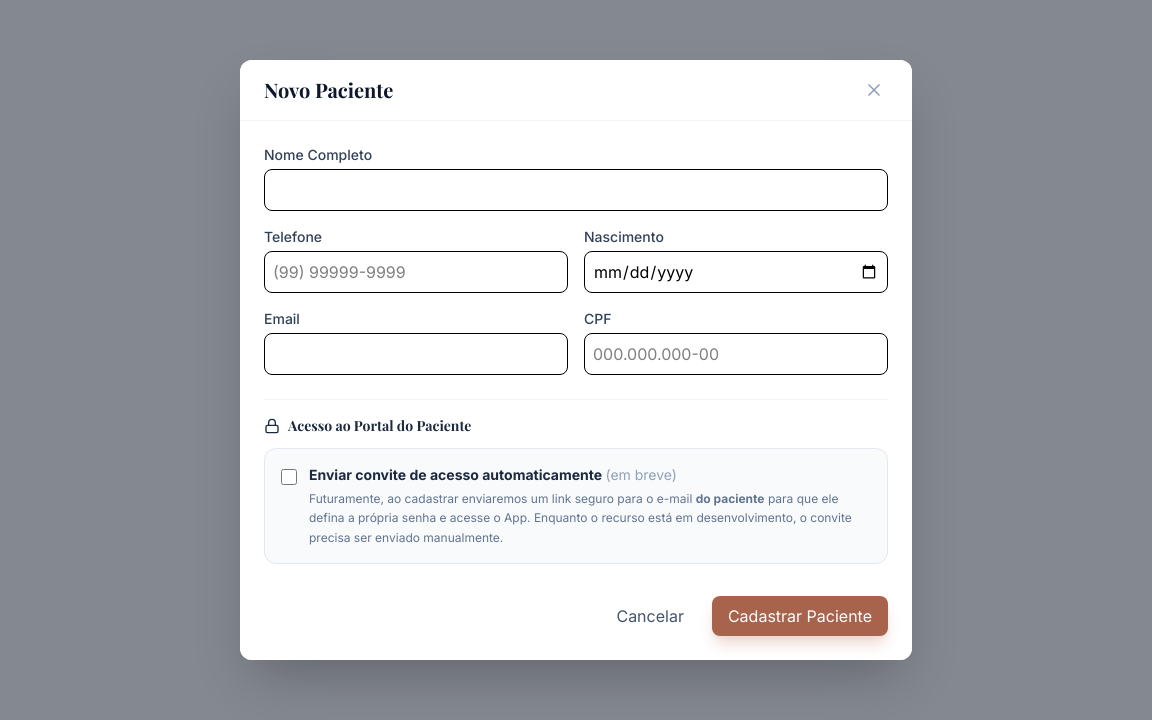
it: NewPatientModal — resultado da API › exibe a mensagem de erro quando addPatient retorna { success: false }
The width and height of the screenshot is (1152, 720).
Type "Maria Souza" into the field named "Nome Completo" at (576, 190), box [264, 169, 888, 211]
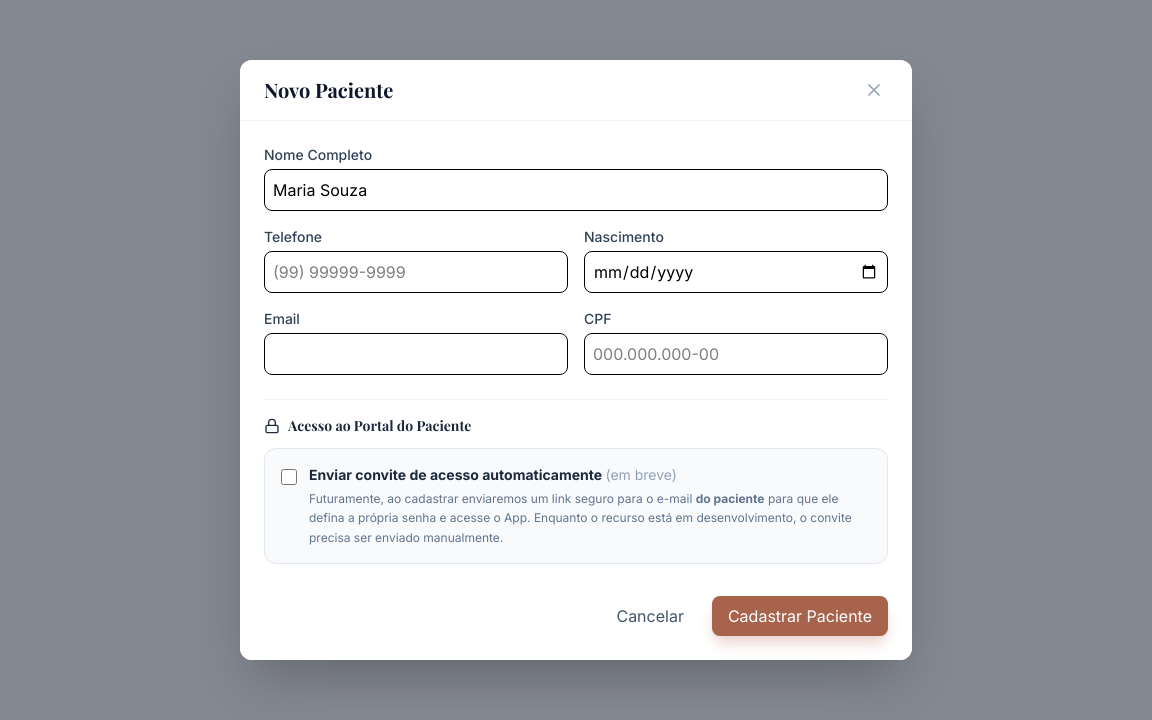
Type "11999998888" into the field with placeholder "(99) 99999-9999" at (416, 272), box [264, 251, 568, 293]
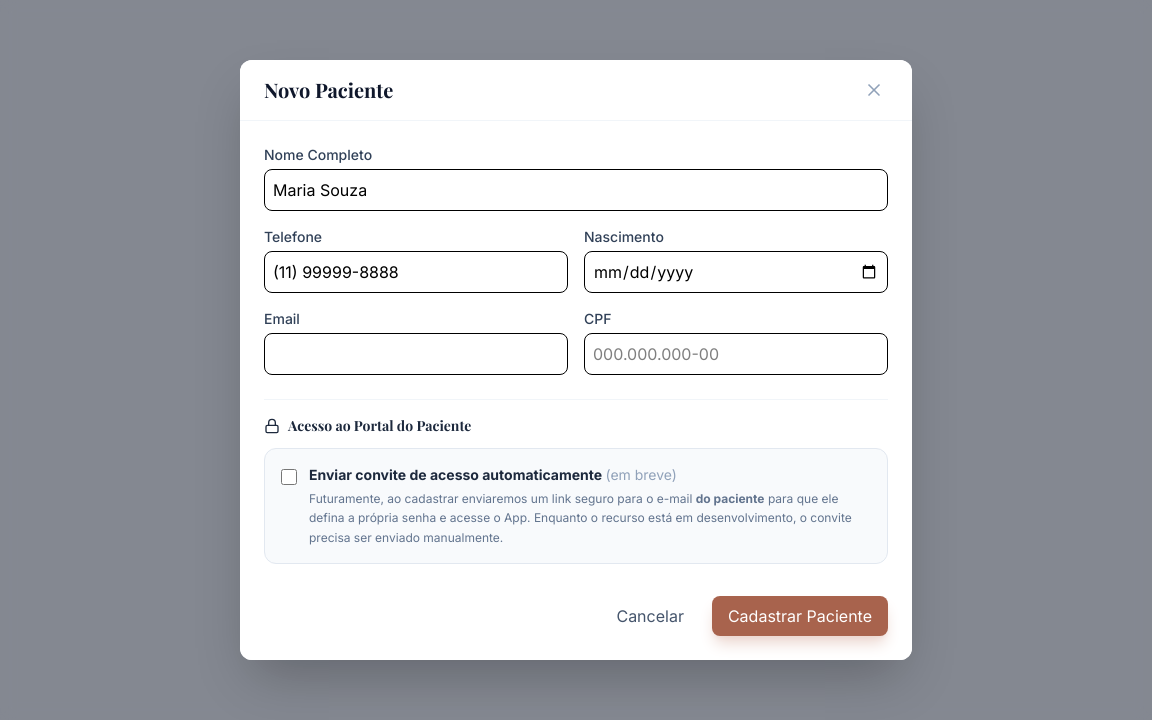
Type "maria@example.com" into the field below "Email" at (416, 354), box [264, 333, 568, 375]
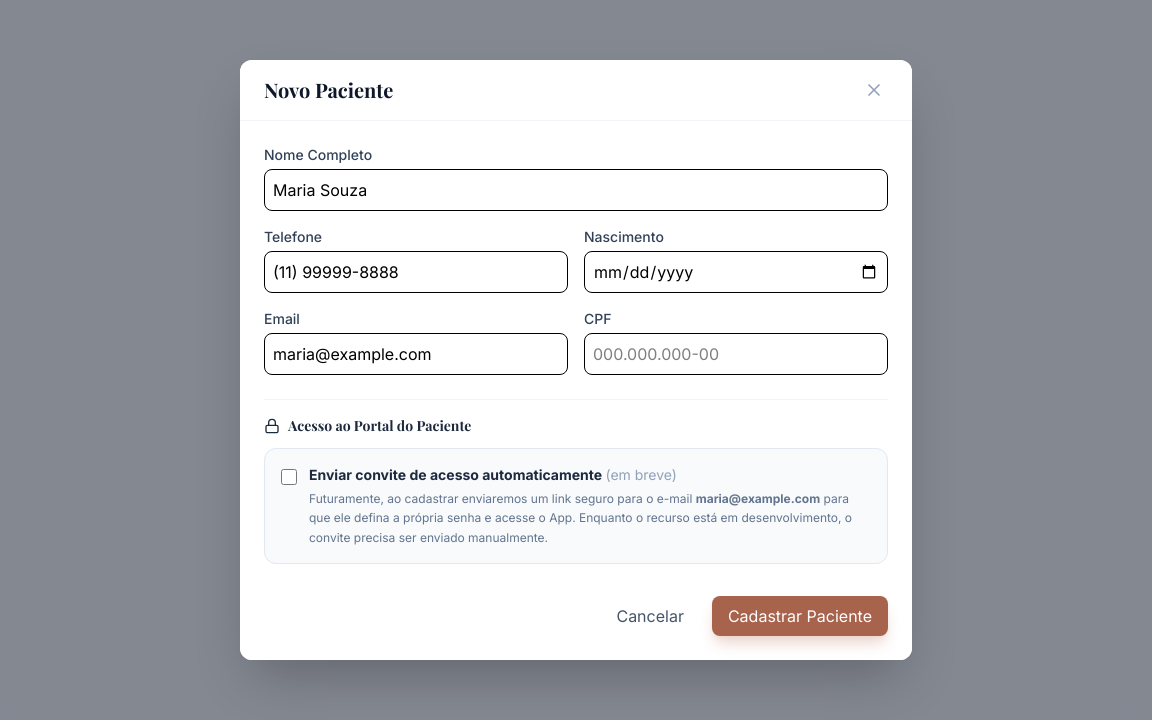
Type "1990-05-15" into the date field at (736, 272), box [584, 251, 888, 293]
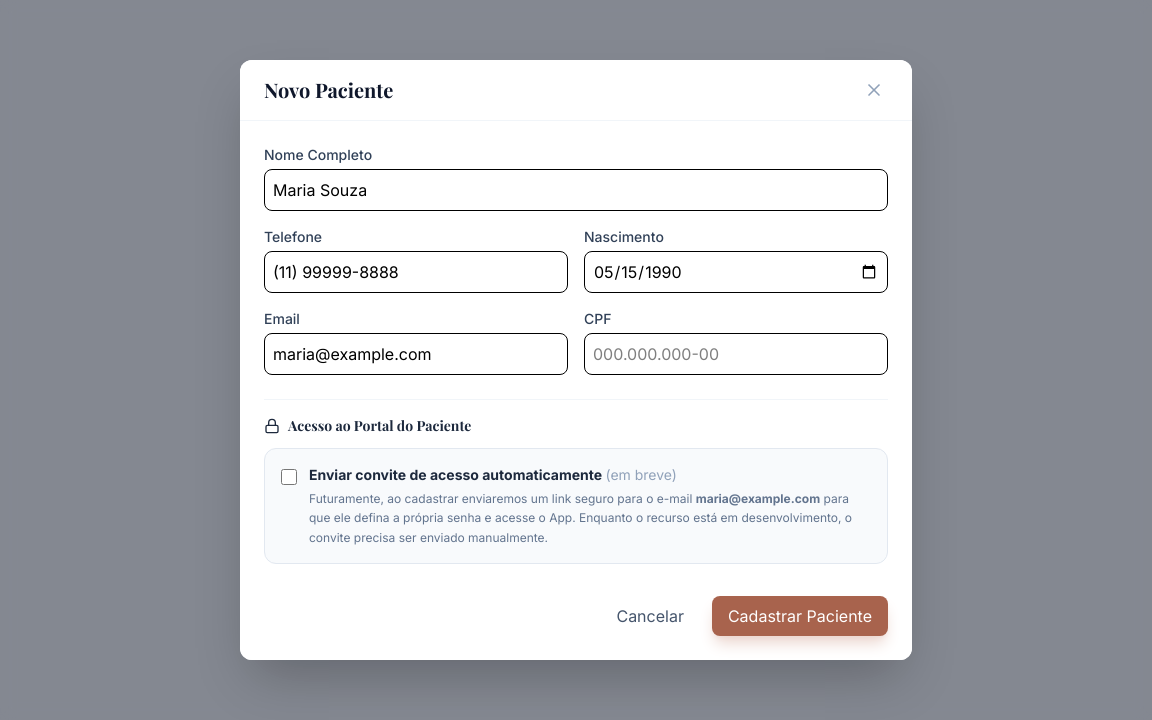
Submit the form, box [264, 145, 888, 636]
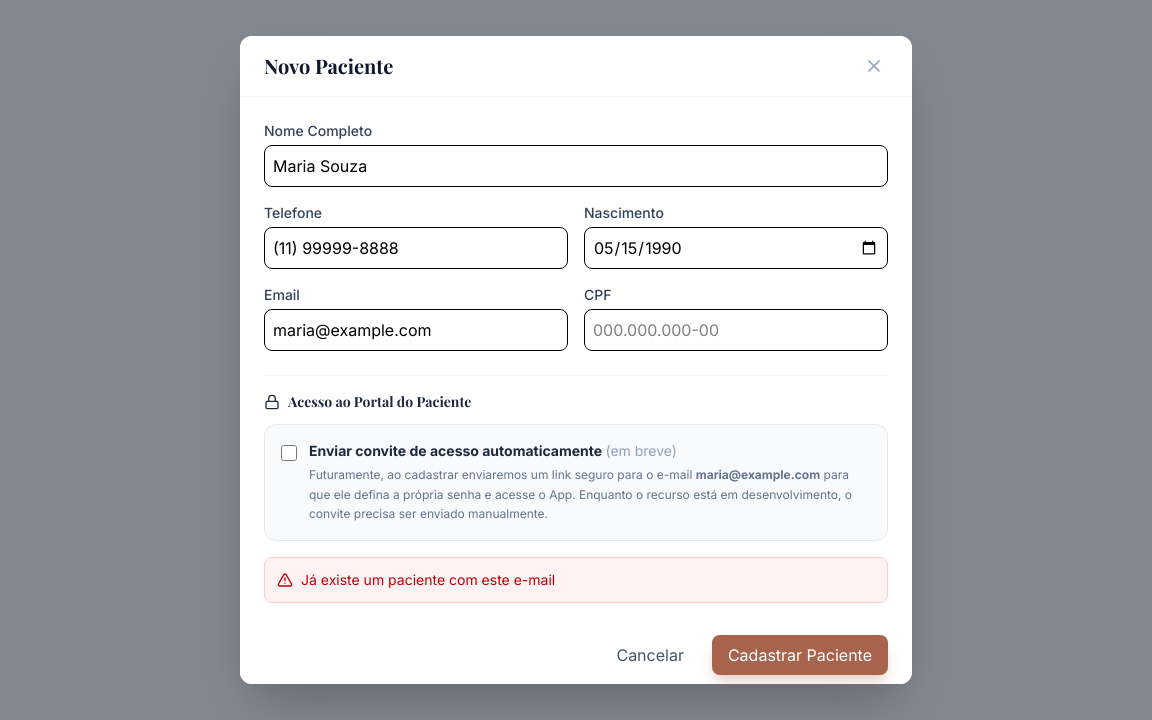
Expected: the text "Já existe um paciente com este e-mail" is shown, [264, 556, 888, 602]
